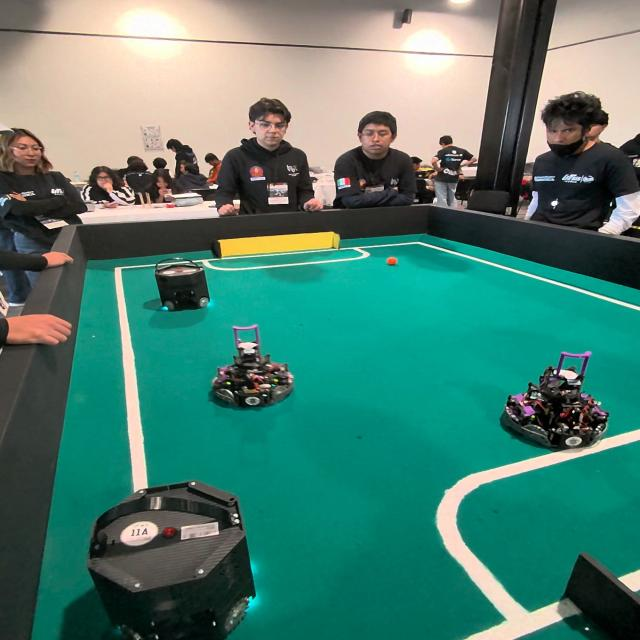Robot: (70, 466, 274, 640), (504, 350, 608, 452), (212, 335, 297, 410), (150, 258, 216, 322)
